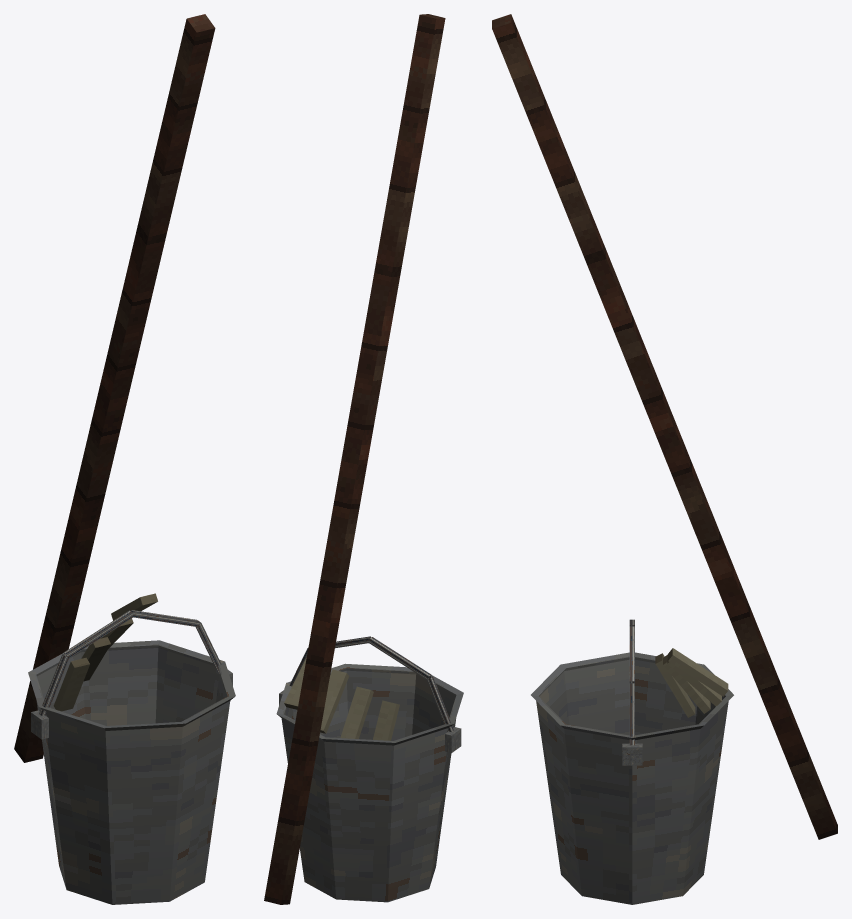
File: prop_bucket-1.glb
3 renders of one model, left to right at view 1: azimuth 30°, elevation 25°; view 2: azimuth 150°, elevation 25°; view 3: azimuth 270°, elevation 25°, orthographic. The views are drawn at different scales.
Parts seen in each view (by area): view 1: prop_bucket-1; view 2: prop_bucket-1; view 3: prop_bucket-1.
Part boxes in pixels (x1,y1,x2,y2): prop_bucket-1: [14, 14, 235, 904]; prop_bucket-1: [264, 14, 463, 904]; prop_bucket-1: [492, 14, 837, 904].
Size of the model in its own units: 0.3075 by 1.39 by 0.5082.
Materials: 3 (3 with a texture image).
